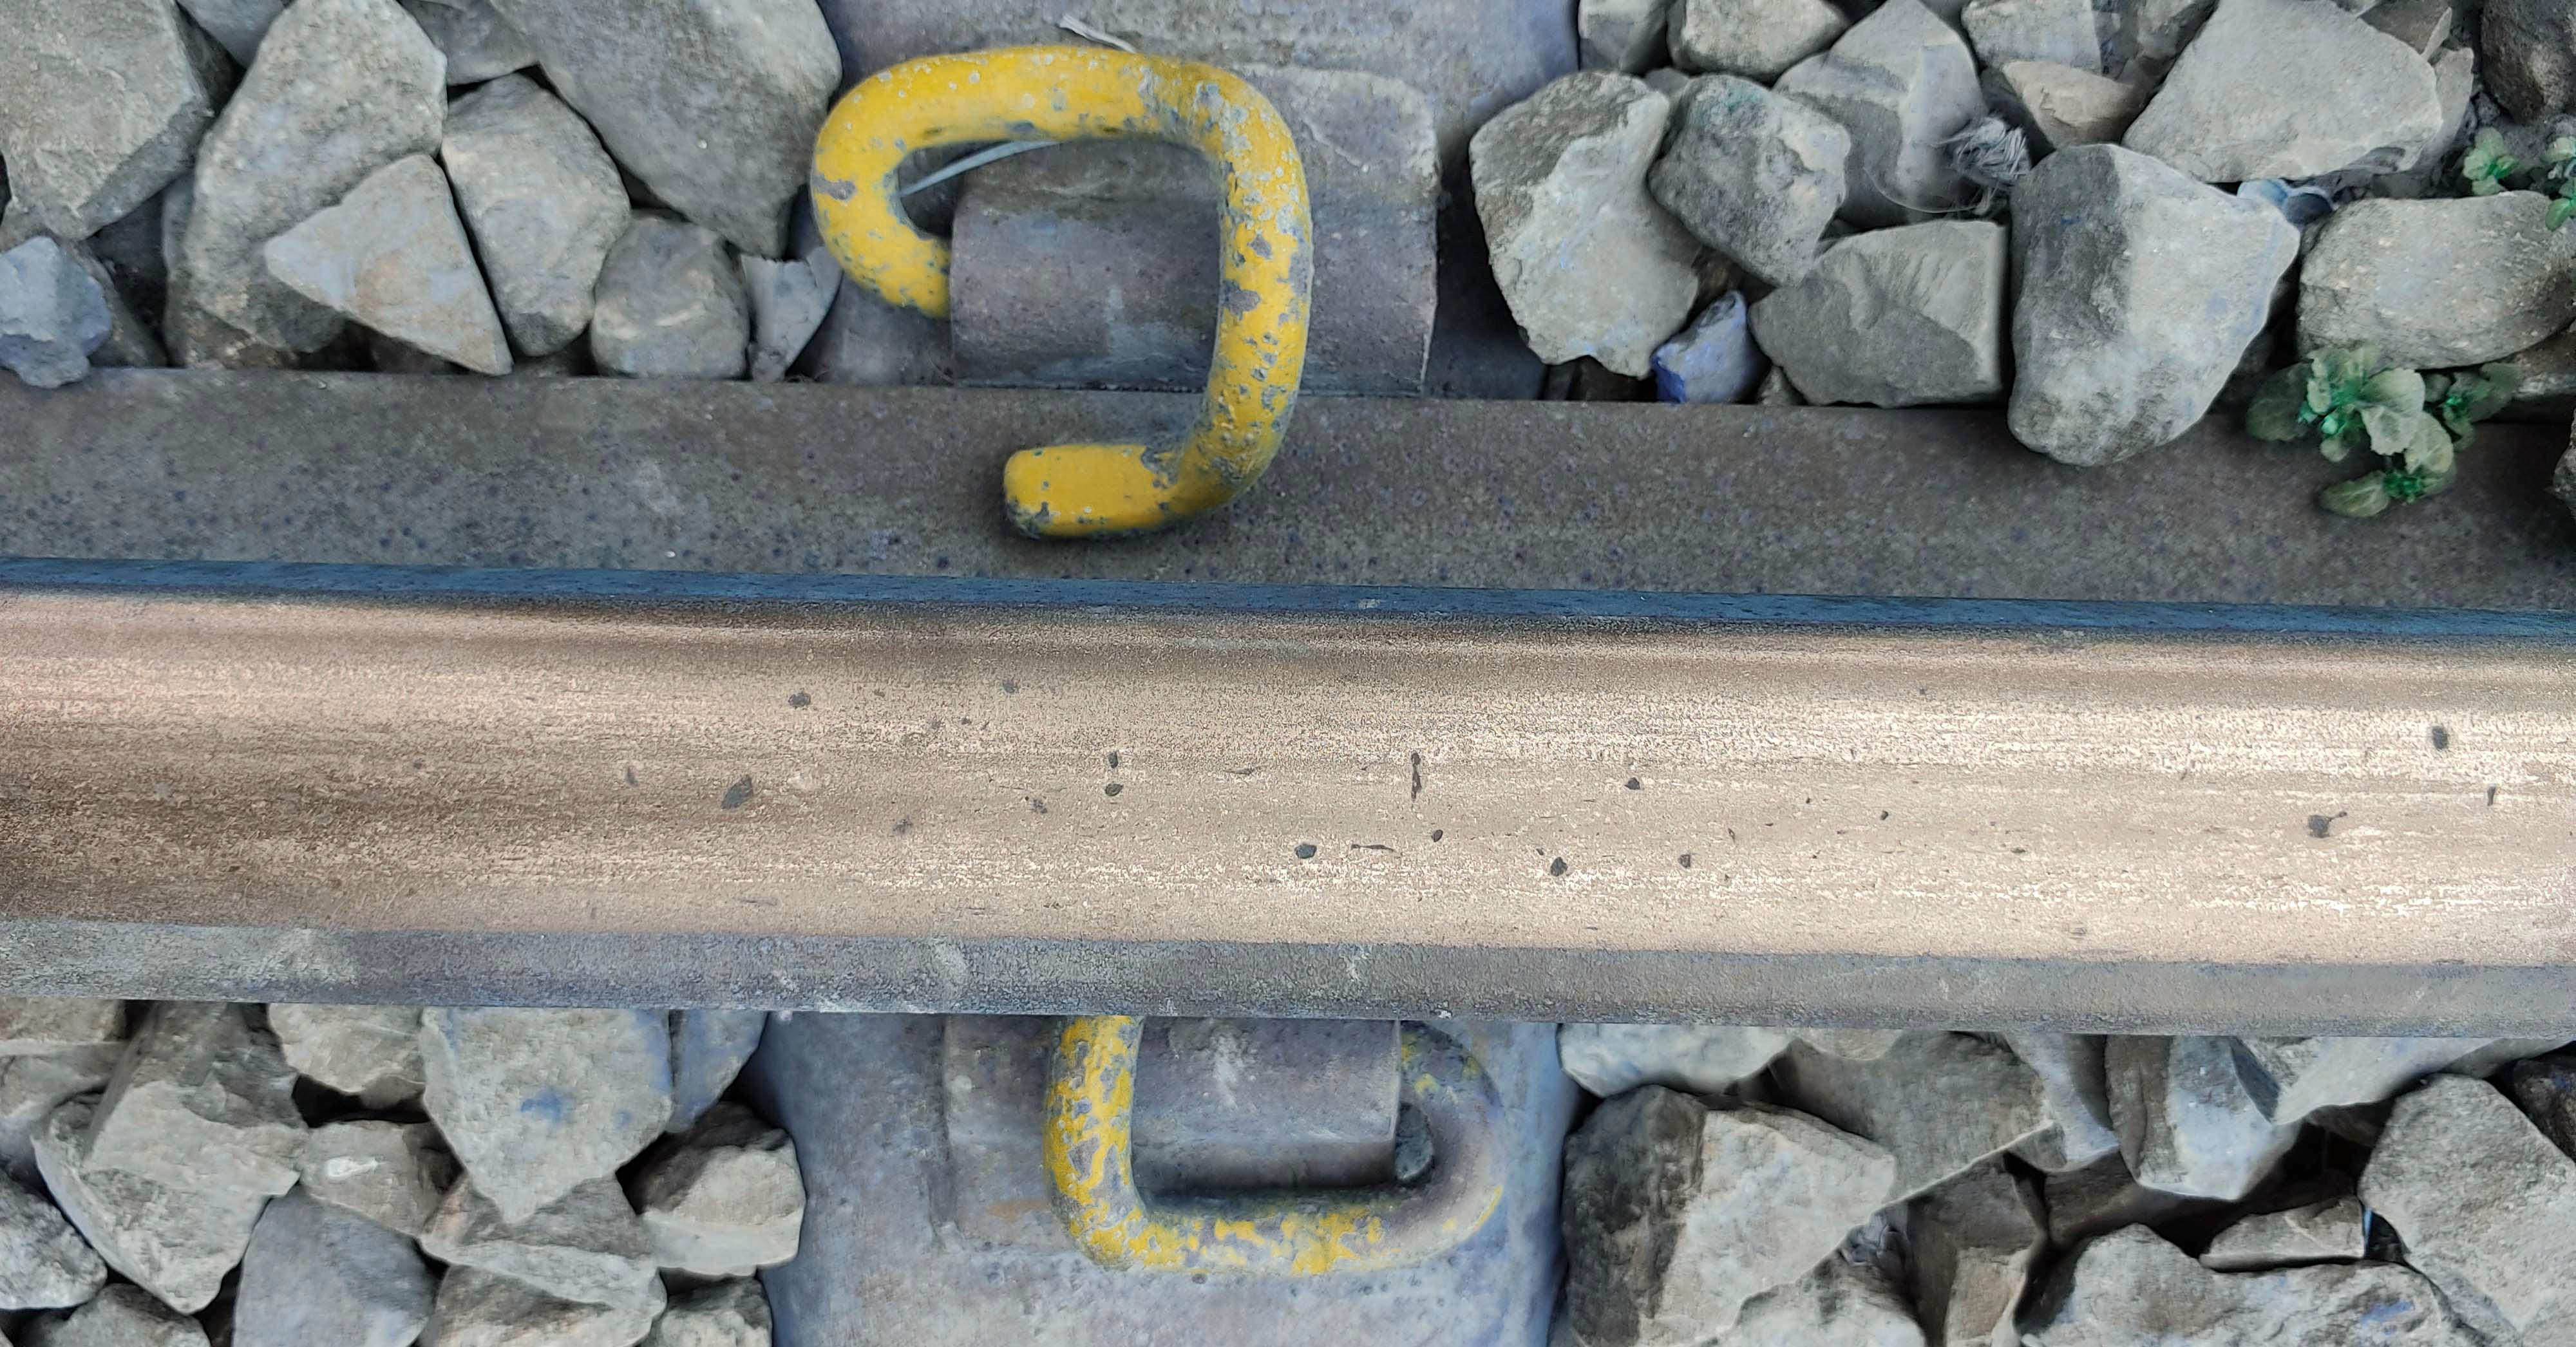error1: (804, 3, 1324, 545), (985, 967, 1528, 1303)
